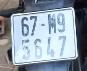4: (45, 36, 56, 59)
5: (20, 39, 32, 62)
6: (19, 15, 30, 37), (34, 37, 43, 61)
7: (57, 35, 69, 58), (29, 14, 39, 37)
9: (57, 11, 67, 34)
M: (46, 11, 57, 35)
